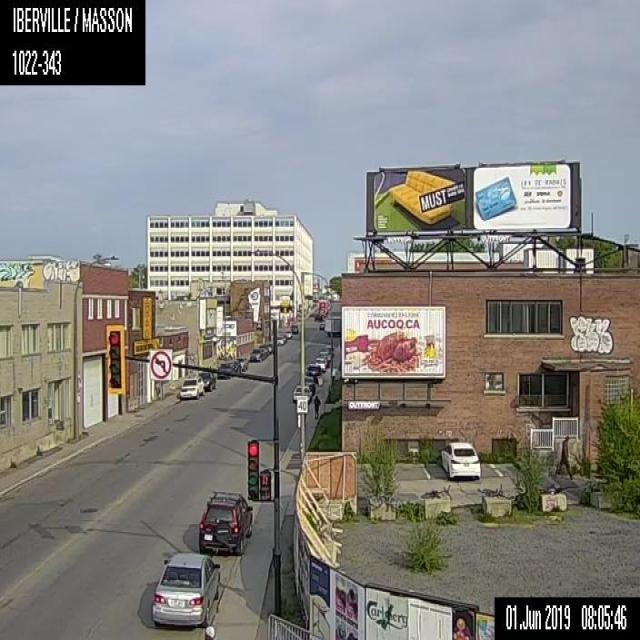pedestrian: (312, 393, 320, 418)
vehicle: (150, 550, 221, 628), (198, 488, 252, 554), (440, 441, 481, 480), (178, 374, 204, 399), (196, 371, 216, 392), (290, 385, 311, 403), (217, 360, 235, 379), (305, 362, 321, 382), (324, 318, 339, 338), (248, 346, 264, 362), (313, 356, 326, 372), (317, 298, 328, 316), (235, 356, 247, 371), (290, 322, 298, 333), (283, 329, 292, 338), (276, 335, 284, 345), (313, 312, 323, 320), (318, 320, 326, 330), (266, 341, 272, 352)
